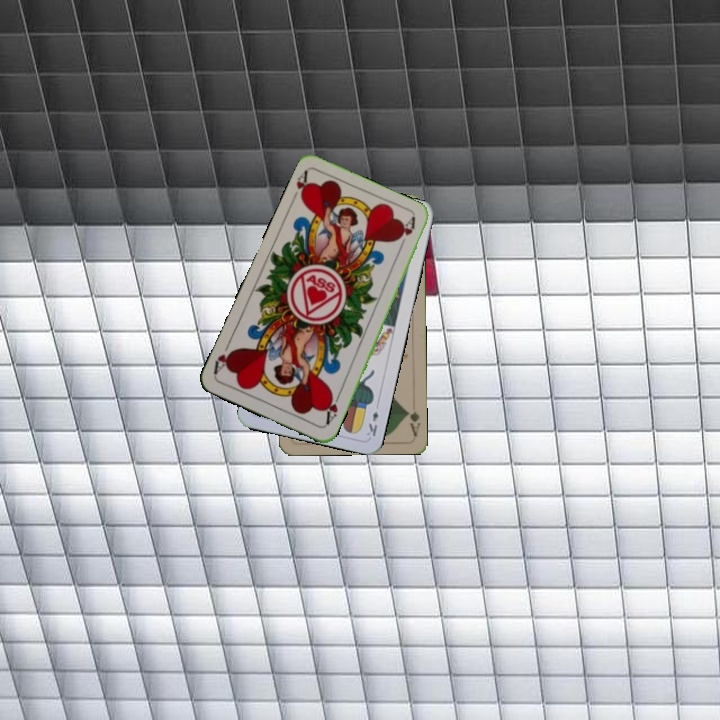EK: (363, 407, 381, 439)
GA: (403, 407, 423, 438)
HA: (287, 166, 314, 205), (321, 389, 343, 428)
